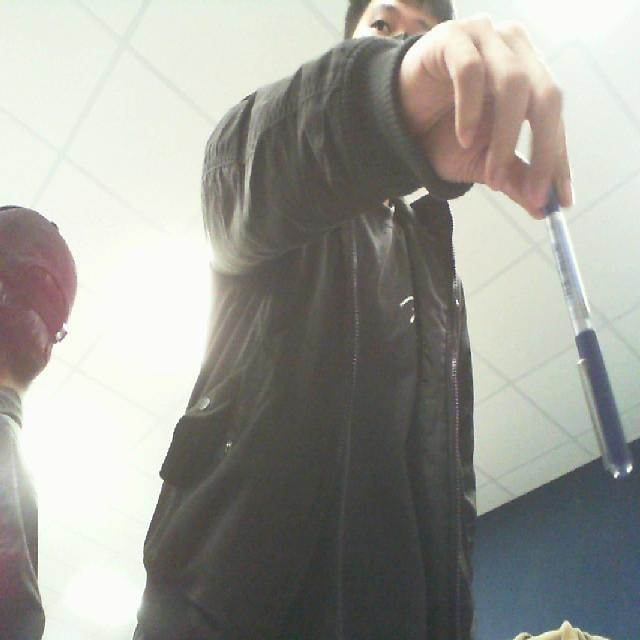Pen: (531, 170, 637, 487)
